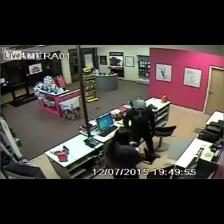person: (124, 100, 160, 158), (104, 128, 144, 178)
